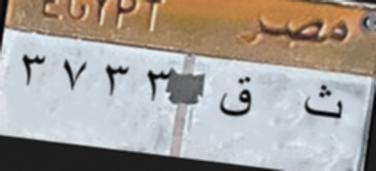3: (97, 57, 130, 102), (20, 45, 50, 92), (142, 64, 173, 108)
7: (55, 54, 89, 99)
qaaf: (219, 71, 256, 125)
thaa: (302, 76, 344, 126)
